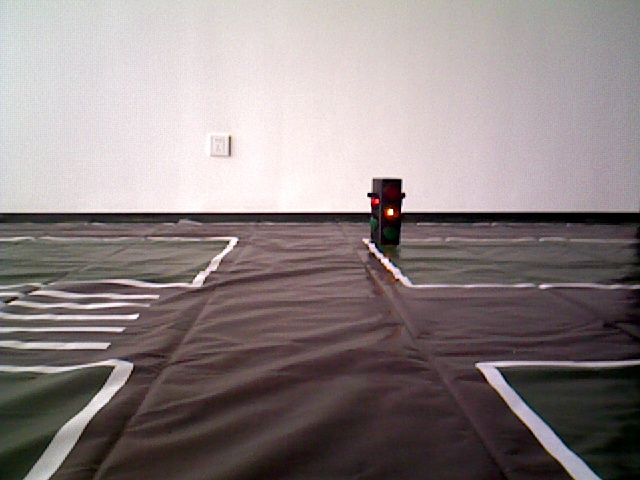yellow: (371, 175, 406, 245)
